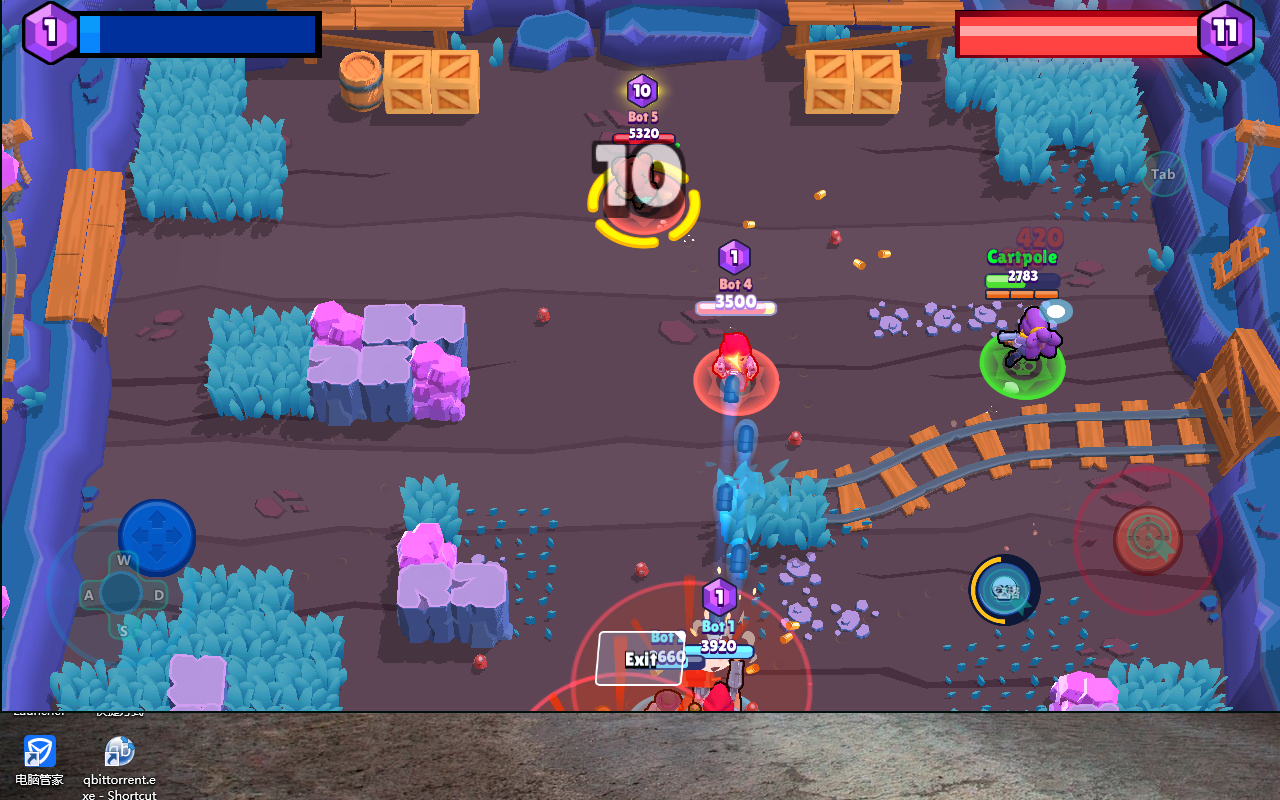current_player: (827, 329, 915, 402)
